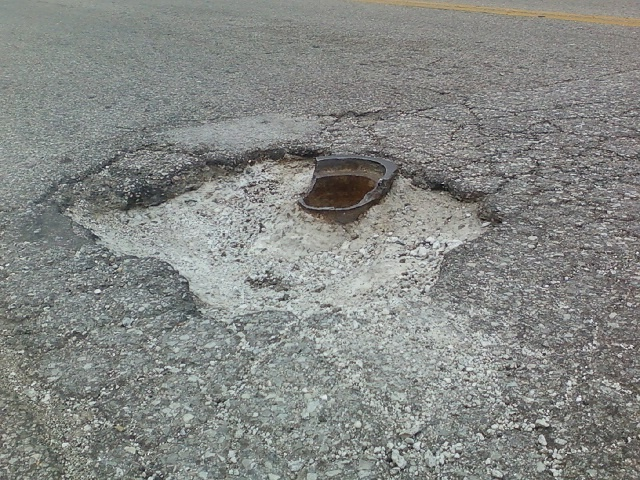pothole: (57, 154, 502, 332)
